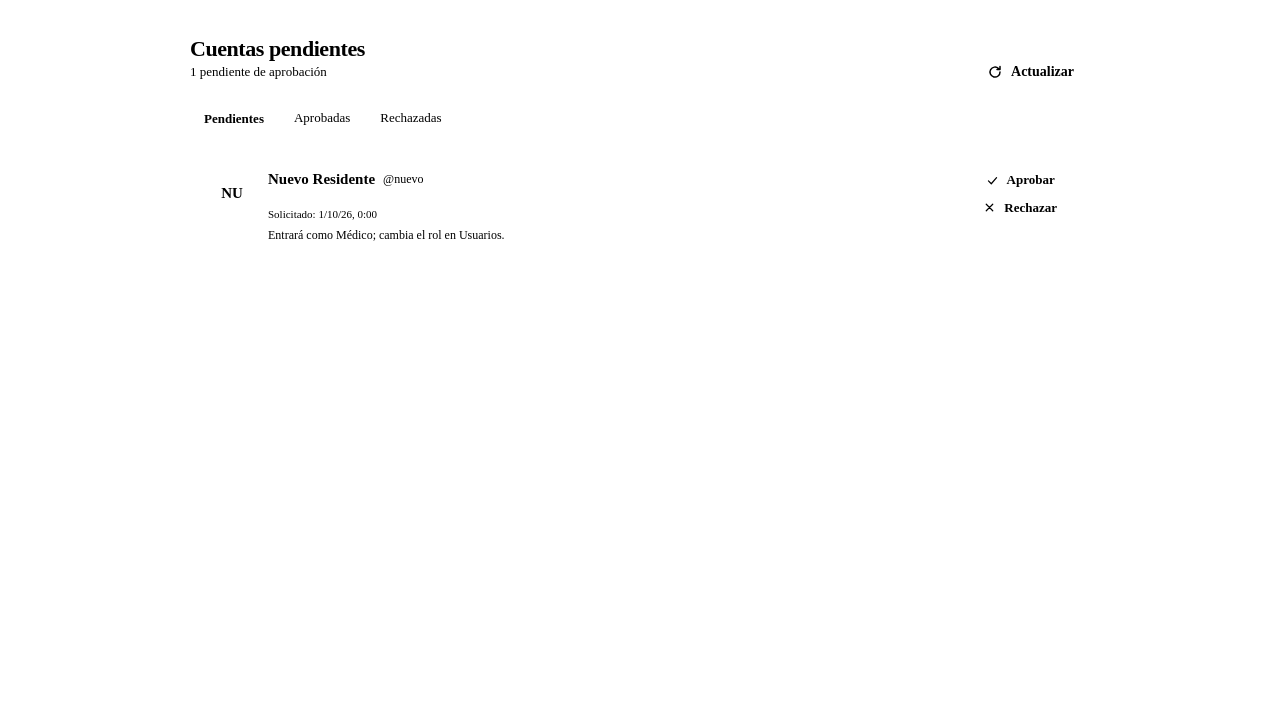
Test: «Rechazar» una solicitud › abre la confirmación y no rechaza hasta confirmar
Click the button "Rechazar".
click(1020, 208)  # box [970, 198, 1070, 216]
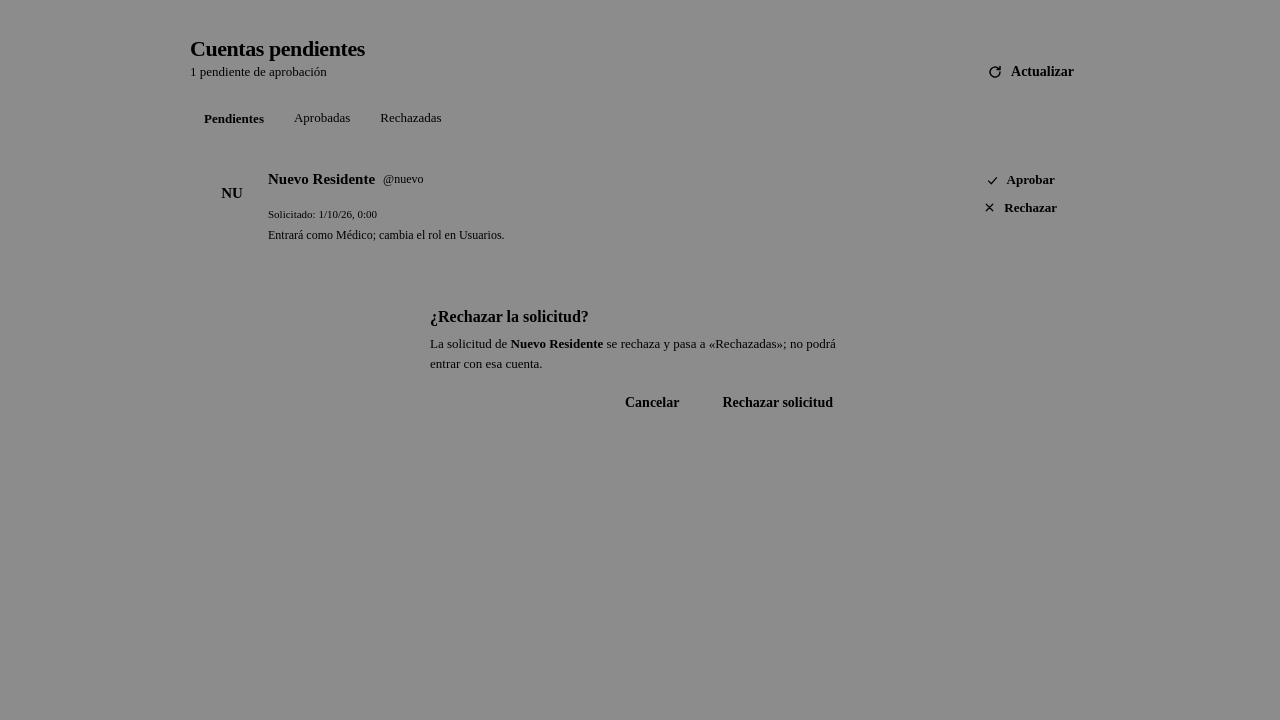
Expected: the dialog "¿Rechazar la solicitud?" shows "Nuevo Residente", [510, 336, 603, 351]
Click the button "Rechazar solicitud".
click(778, 403)  # box [705, 394, 850, 412]
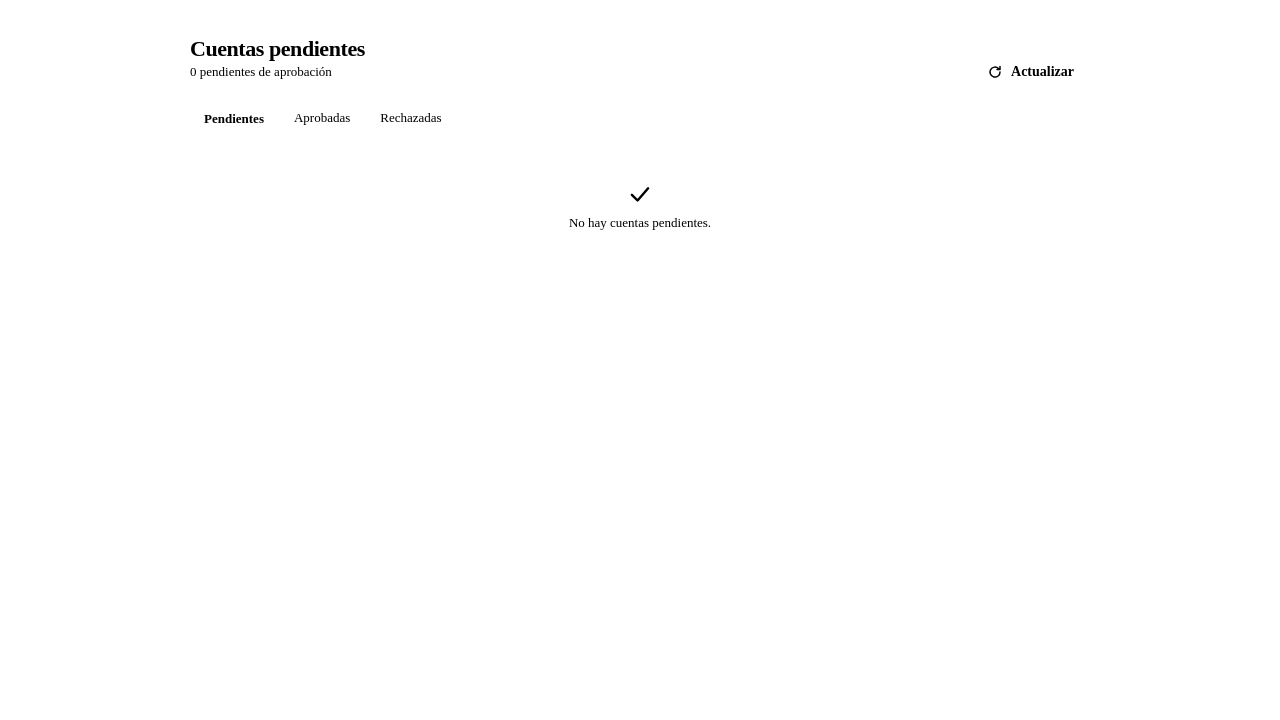
Expected: the text "Nuevo Residente" is gone
